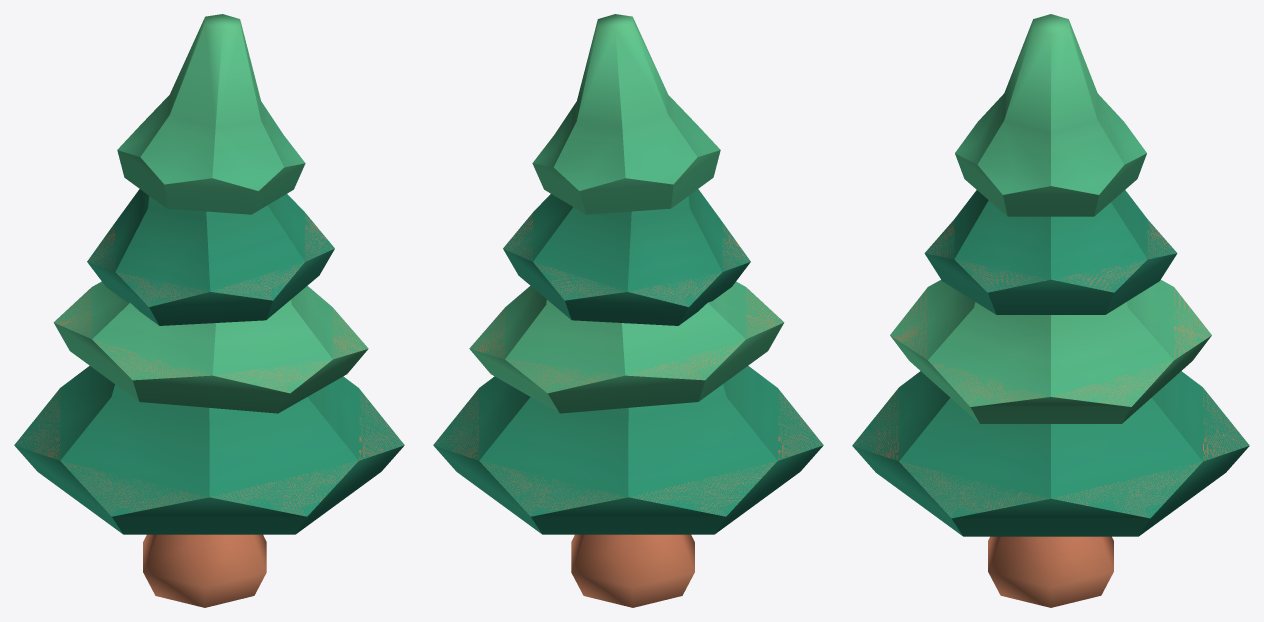
Rendered from pine-crooked.glb.
3 views of the same model, side by side, from view 1: azimuth 30°, elevation 25°; view 2: azimuth 150°, elevation 25°; view 3: azimuth 270°, elevation 25° (orthographic).
Visible parts, largest first — view 1: pine-crooked; view 2: pine-crooked; view 3: pine-crooked.
Part boxes in pixels (box(x1,y1,x2,y2)): pine-crooked: box(14, 14, 404, 607); pine-crooked: box(433, 14, 823, 607); pine-crooked: box(852, 14, 1249, 607).
Size of the model in its own units: 1.18 by 2.11 by 1.33.
Materials: 1 (1 with a texture image).
